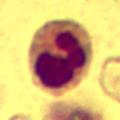monocyte: (27, 15, 93, 91)
